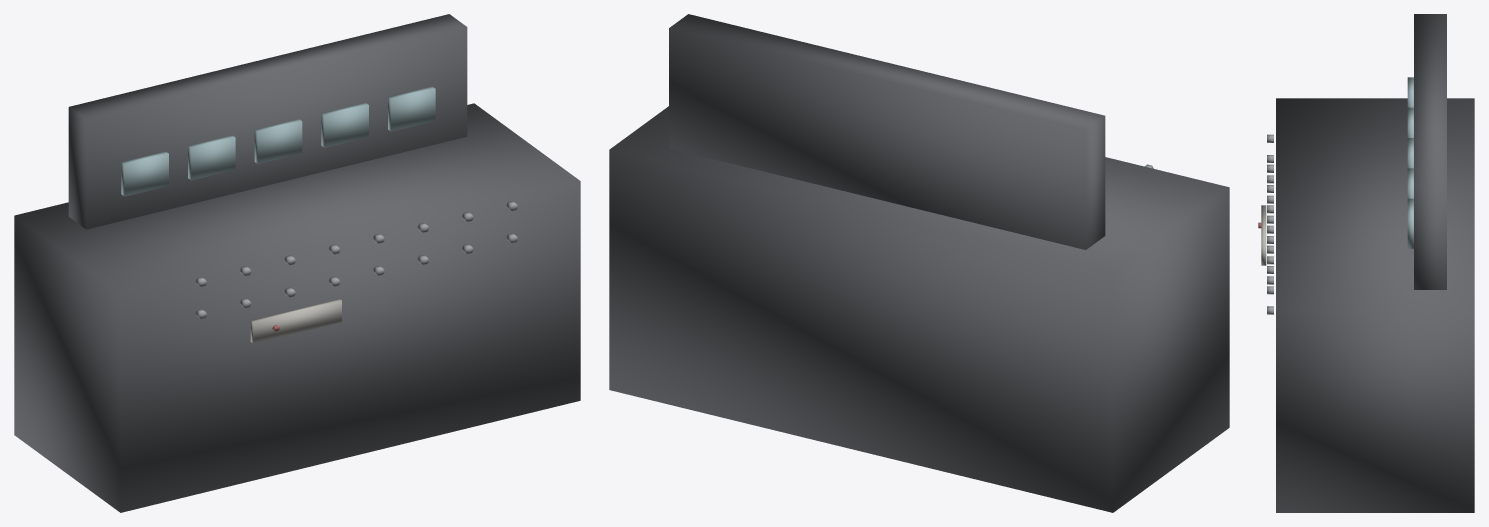
Rendered from pa_rack__wide.glb.
3 renders of one model, left to right at view 1: azimuth 30°, elevation 25°; view 2: azimuth 150°, elevation 25°; view 3: azimuth 270°, elevation 25°, orthographic. The views are drawn at different scales.
Parts seen in each view (by area): view 1: world; view 2: world; view 3: world.
Boxes of the visible parts, x1=… form: world: x1=14, y1=14, x2=580, y2=512; world: x1=609, y1=14, x2=1229, y2=512; world: x1=1258, y1=14, x2=1474, y2=512.
Size of the model in its own units: 1.8 by 1.23 by 0.7835.
